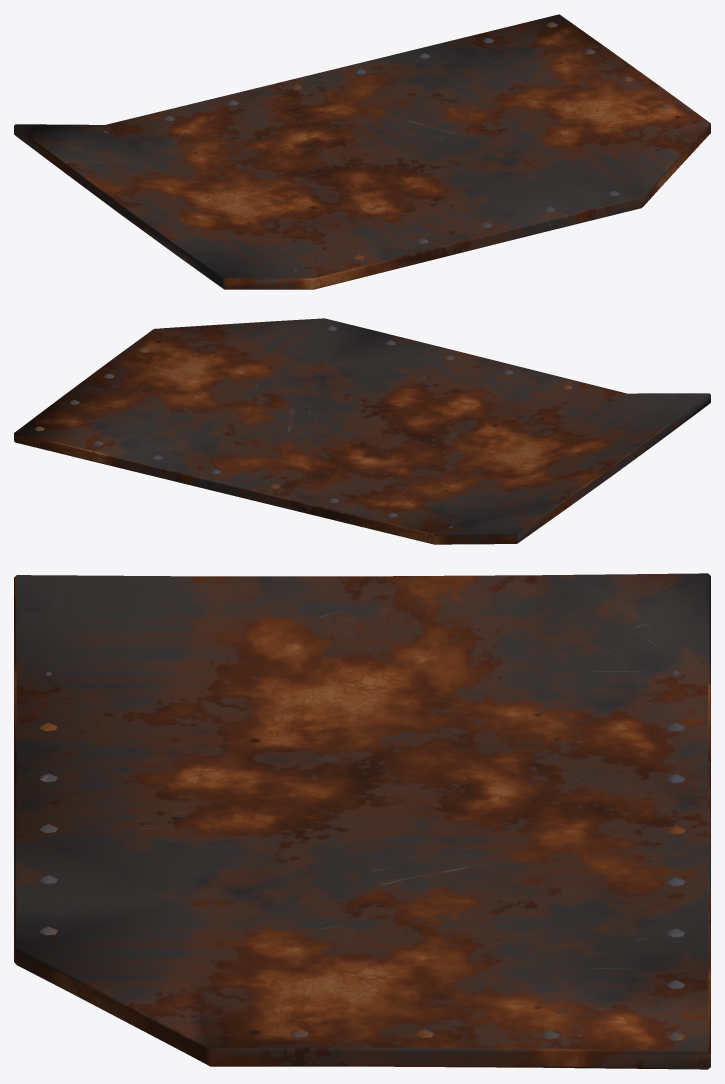
The model's file is Metal_Plate_B.glb.
The picture shows the model from 3 angles, top to bottom: view 1: azimuth 30°, elevation 25°; view 2: azimuth 150°, elevation 25°; view 3: azimuth 270°, elevation 25°; orthographic projection. The views are drawn at different scales.
Visible parts, largest first — view 1: Metal_Plate_B; view 2: Metal_Plate_B; view 3: Metal_Plate_B.
Part boxes in pixels (x1,y1,x2,y2): Metal_Plate_B: (14, 14, 710, 289); Metal_Plate_B: (14, 318, 710, 544); Metal_Plate_B: (14, 573, 710, 1069).
Bounding box in the file's own units: 1.5 × 0.0913 × 1.
2 materials, 2 textured.
